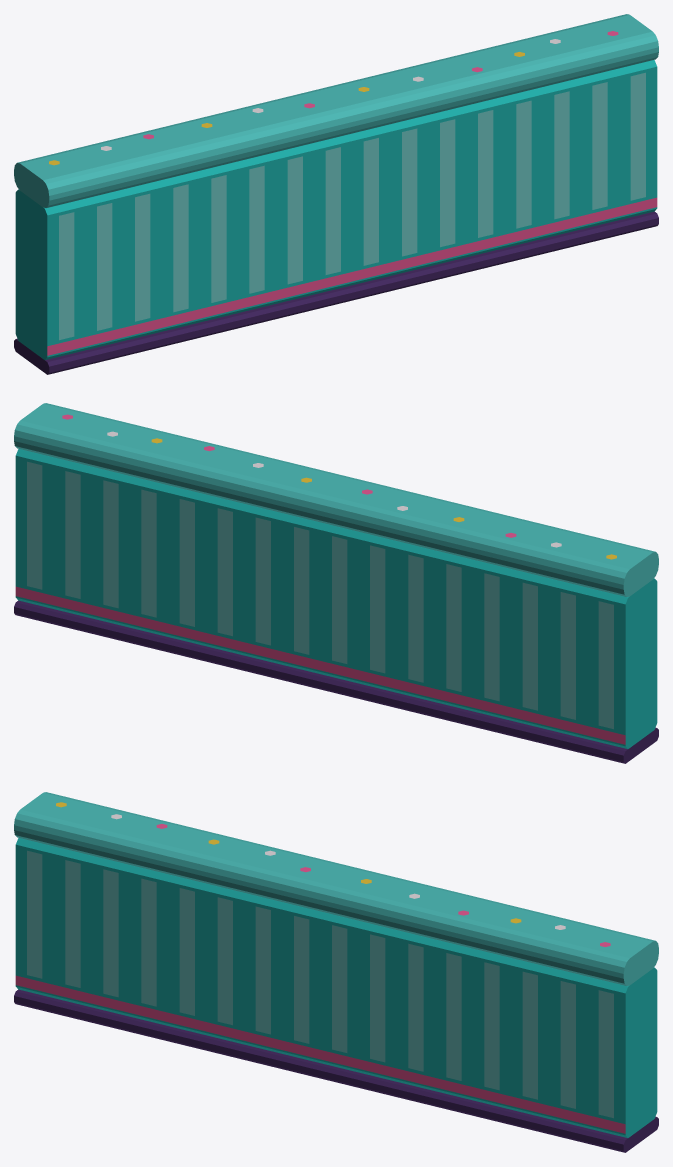
The model's file is carnival-wall2.glb.
3 views of the same model, one above another, from view 1: azimuth 30°, elevation 25°; view 2: azimuth 150°, elevation 25°; view 3: azimuth 330°, elevation 25° (orthographic).
Visible parts, largest first — view 1: carnival-wall2; view 2: carnival-wall2; view 3: carnival-wall2.
Part boxes in pixels (bbox=[...]): carnival-wall2: bbox=[14, 14, 658, 374]; carnival-wall2: bbox=[14, 403, 658, 763]; carnival-wall2: bbox=[14, 792, 658, 1152].
Size of the model in its own units: 4 by 1.2 by 0.4.
